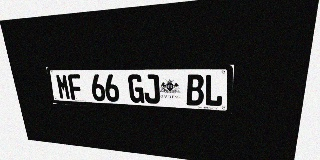6: (103, 74, 120, 102), (90, 74, 106, 101)
B: (186, 74, 204, 106)
F: (67, 74, 83, 100)
G: (128, 74, 144, 103)
J: (143, 74, 160, 104)
L: (204, 74, 223, 107)
M: (55, 74, 71, 100)
